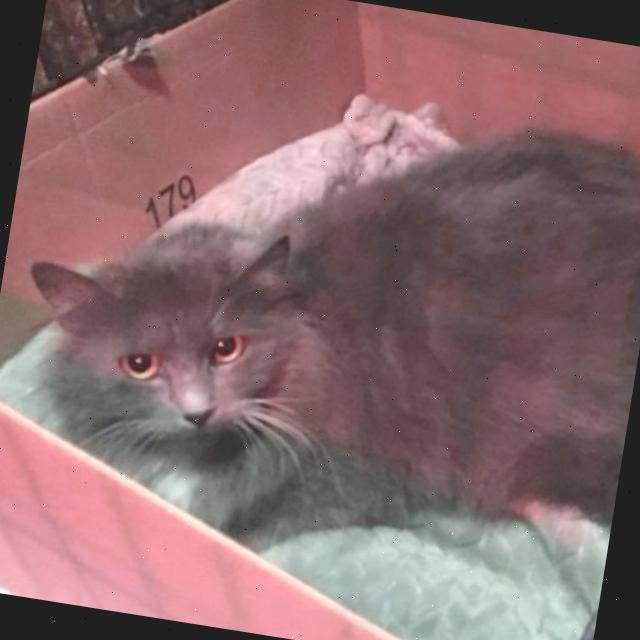domestic_long_hair_cat: (0, 166, 392, 539)
